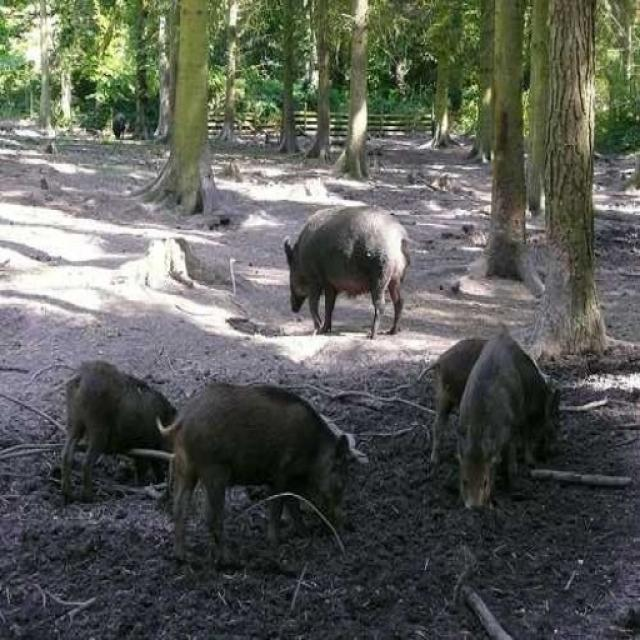pig: (240, 207, 412, 371)
